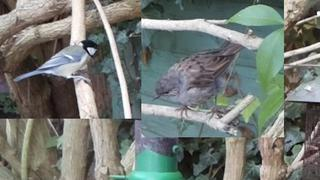dunnock: (152, 40, 244, 122)
great tit: (12, 40, 101, 84)
